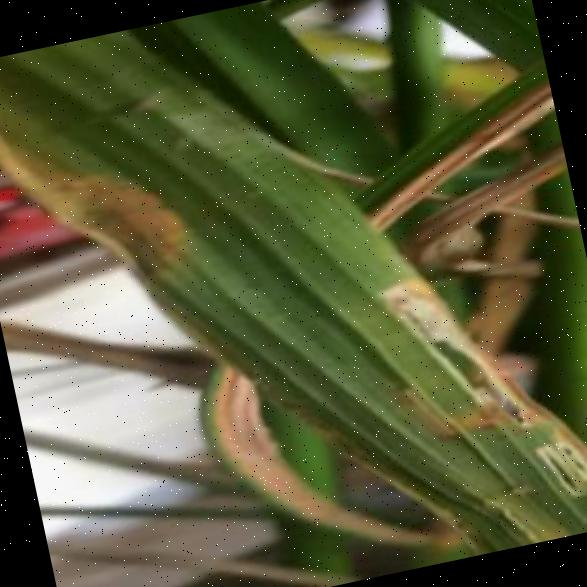Bacteria_Leaf_Blight: (0, 0, 339, 395)
